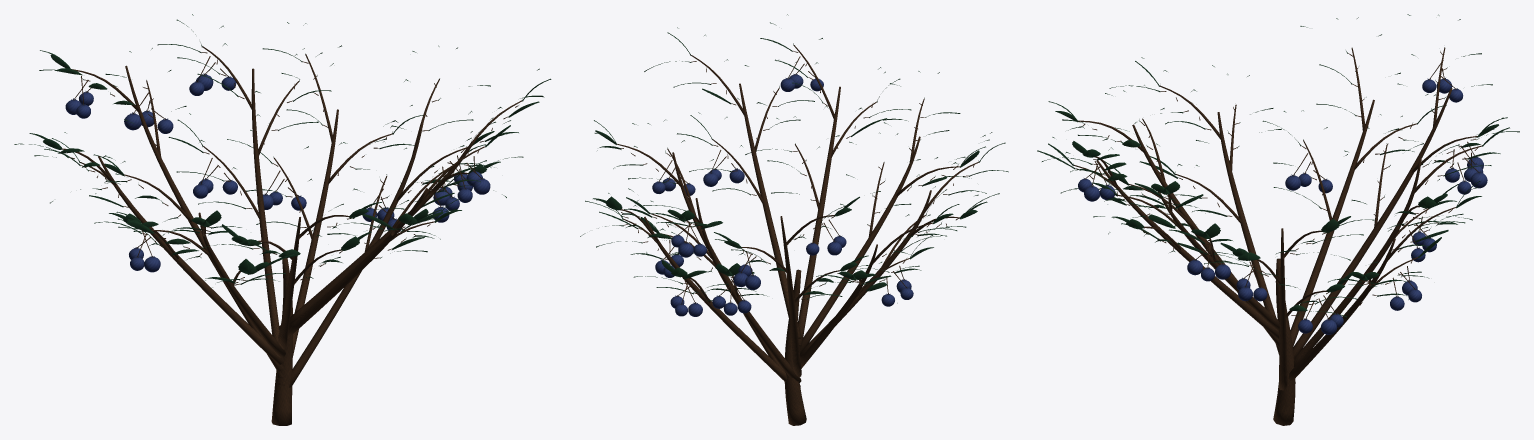
The model's file is stamina_blue_bush_ripe.glb.
3 renders of one model, left to right at view 1: azimuth 30°, elevation 25°; view 2: azimuth 150°, elevation 25°; view 3: azimuth 270°, elevation 25°, orthographic. The views are drawn at different scales.
Visible parts, largest first — view 1: Stamina_Blue_Branches_And_Leaves; view 2: Stamina_Blue_Branches_And_Leaves; view 3: Stamina_Blue_Branches_And_Leaves.
Boxes of the visible parts, bbox=[...] form: Stamina_Blue_Branches_And_Leaves: bbox=[14, 14, 551, 425]; Stamina_Blue_Branches_And_Leaves: bbox=[580, 14, 1008, 425]; Stamina_Blue_Branches_And_Leaves: bbox=[1037, 14, 1519, 425].
Bounding box in the file's own units: 0.7133 × 0.5484 × 0.71.
4 materials, 3 textured.
